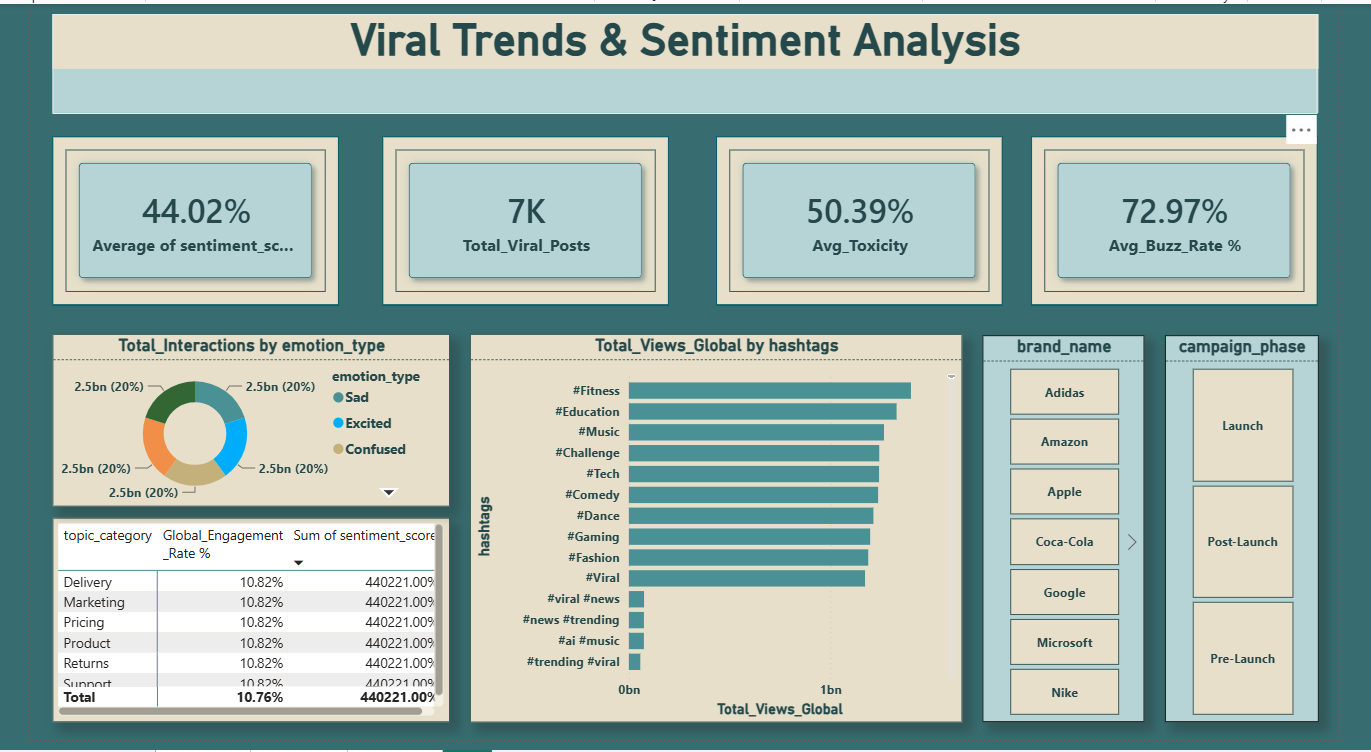

The dashboard page shown, as its layout file describes it:
{"tool":"powerbi","page":{"name":"Page 2","canvas":[1280,720],"ordinal":1},"visuals":[{"type":"cardVisual","fields":{"Data":["Avg(social_media_performance1.sentiment_score)"]},"box":[21.4,130,280,165.7],"z":0},{"type":"cardVisual","fields":{"Data":["Dim_Hashtags.Total_Viral_Posts"]},"box":[344.3,130,280,165.7],"z":1000},{"type":"cardVisual","fields":{"Data":["Dim_Hashtags.Avg_Buzz_Rate %"]},"box":[980,130,280,165.7],"z":2000},{"type":"cardVisual","fields":{"Data":["Dim_Hashtags.Avg_Toxicity"]},"box":[671.4,130,280,165.7],"z":3000},{"type":"pivotTable","fields":{"Rows":["Social_Media_Engagement_Dataset.topic_category"],"Values":["Dim_Hashtags.Global_Engagement_Rate %","Sum(social_media_performance1.sentiment_score)"]},"box":[21.4,502.9,388.6,200],"z":4000},{"type":"donutChart","fields":{"Category":["Social_Media_Engagement_Dataset.emotion_type"],"Y":["Dim_Hashtags.Total_Interactions"]},"box":[21.4,322.9,388.6,168.6],"z":5000},{"type":"clusteredBarChart","fields":{"Category":["Dim_Hashtags.hashtags"],"Y":["Dim_Hashtags.Total_Views_Global"]},"box":[430,322.9,481.4,380],"z":6000},{"type":"slicer","title":"campaign_phase","fields":{"Values":["Social_Media_Engagement_Dataset.campaign_phase"]},"box":[1110,324.3,150,378.6],"z":7000},{"type":"slicer","title":"brand_name","fields":{"Values":["Social_Media_Engagement_Dataset.brand_name"]},"box":[931.4,324.3,158.6,378.6],"z":8000},{"type":"textbox","title":" Viral Trends & Sentiment Analysis","box":[21.4,10,1238.6,97.1],"z":9000}]}

Visuals, with their boxes in screenshot pixels (x1, y1, x2, y2), scaled from the page's 1280x720 canvas onto the 1371x752 screenshot:
cardVisual - Avg(social_media_performance1.sentiment_score): select_region(23, 136, 323, 309)
cardVisual - Dim_Hashtags.Total_Viral_Posts: select_region(369, 136, 669, 309)
cardVisual - Dim_Hashtags.Avg_Buzz_Rate %: select_region(1050, 136, 1350, 309)
cardVisual - Dim_Hashtags.Avg_Toxicity: select_region(719, 136, 1019, 309)
pivotTable - Social_Media_Engagement_Dataset.topic_category x Dim_Hashtags.Global_Engagement_Rate %: select_region(23, 525, 439, 734)
donutChart - Social_Media_Engagement_Dataset.emotion_type x Dim_Hashtags.Total_Interactions: select_region(23, 337, 439, 513)
clusteredBarChart - Dim_Hashtags.hashtags x Dim_Hashtags.Total_Views_Global: select_region(461, 337, 976, 734)
"campaign_phase" slicer: select_region(1189, 339, 1350, 734)
"brand_name" slicer: select_region(998, 339, 1167, 734)
" Viral Trends & Sentiment Analysis" textbox: select_region(23, 10, 1350, 112)
